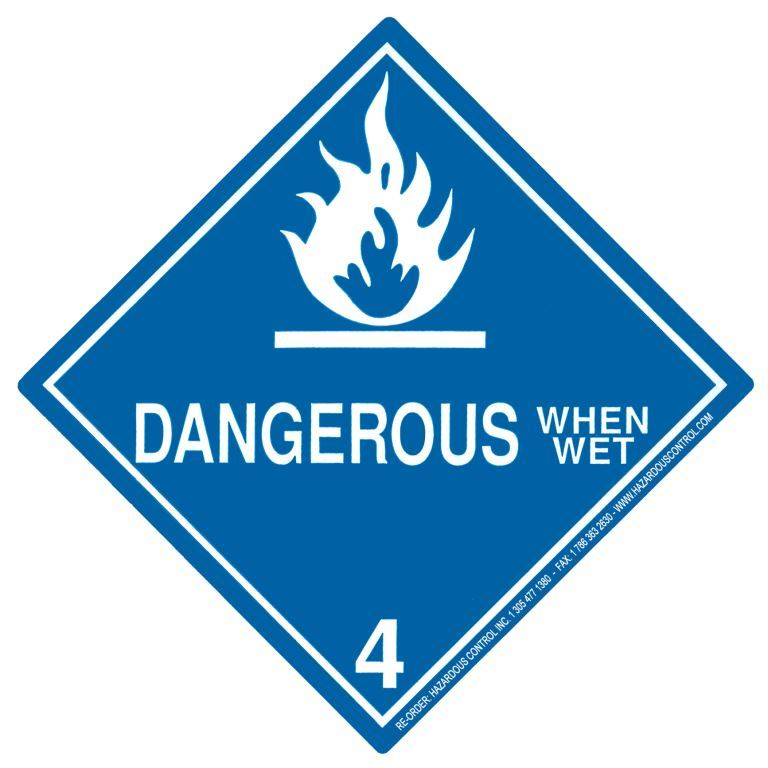DangerousWhenWet: (19, 14, 763, 742)
